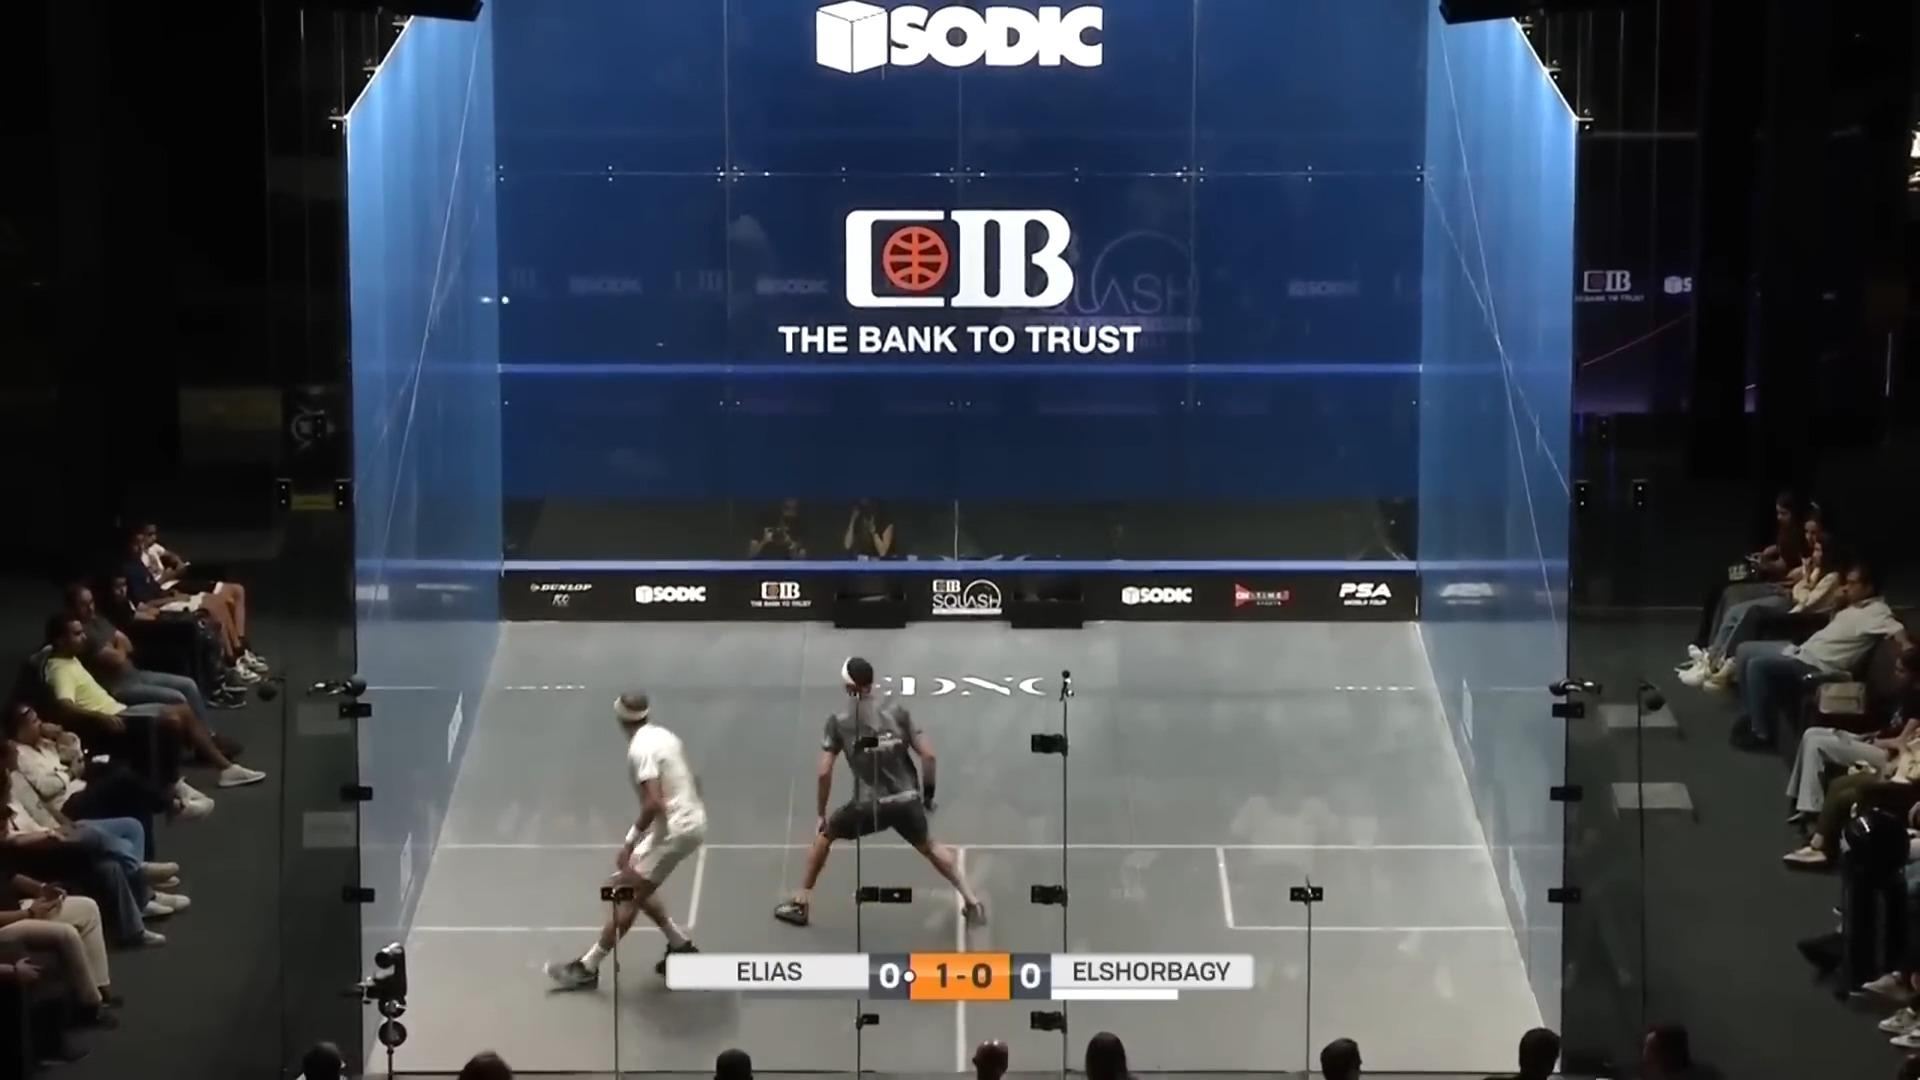Squash-Ball: (493, 287, 517, 315)
